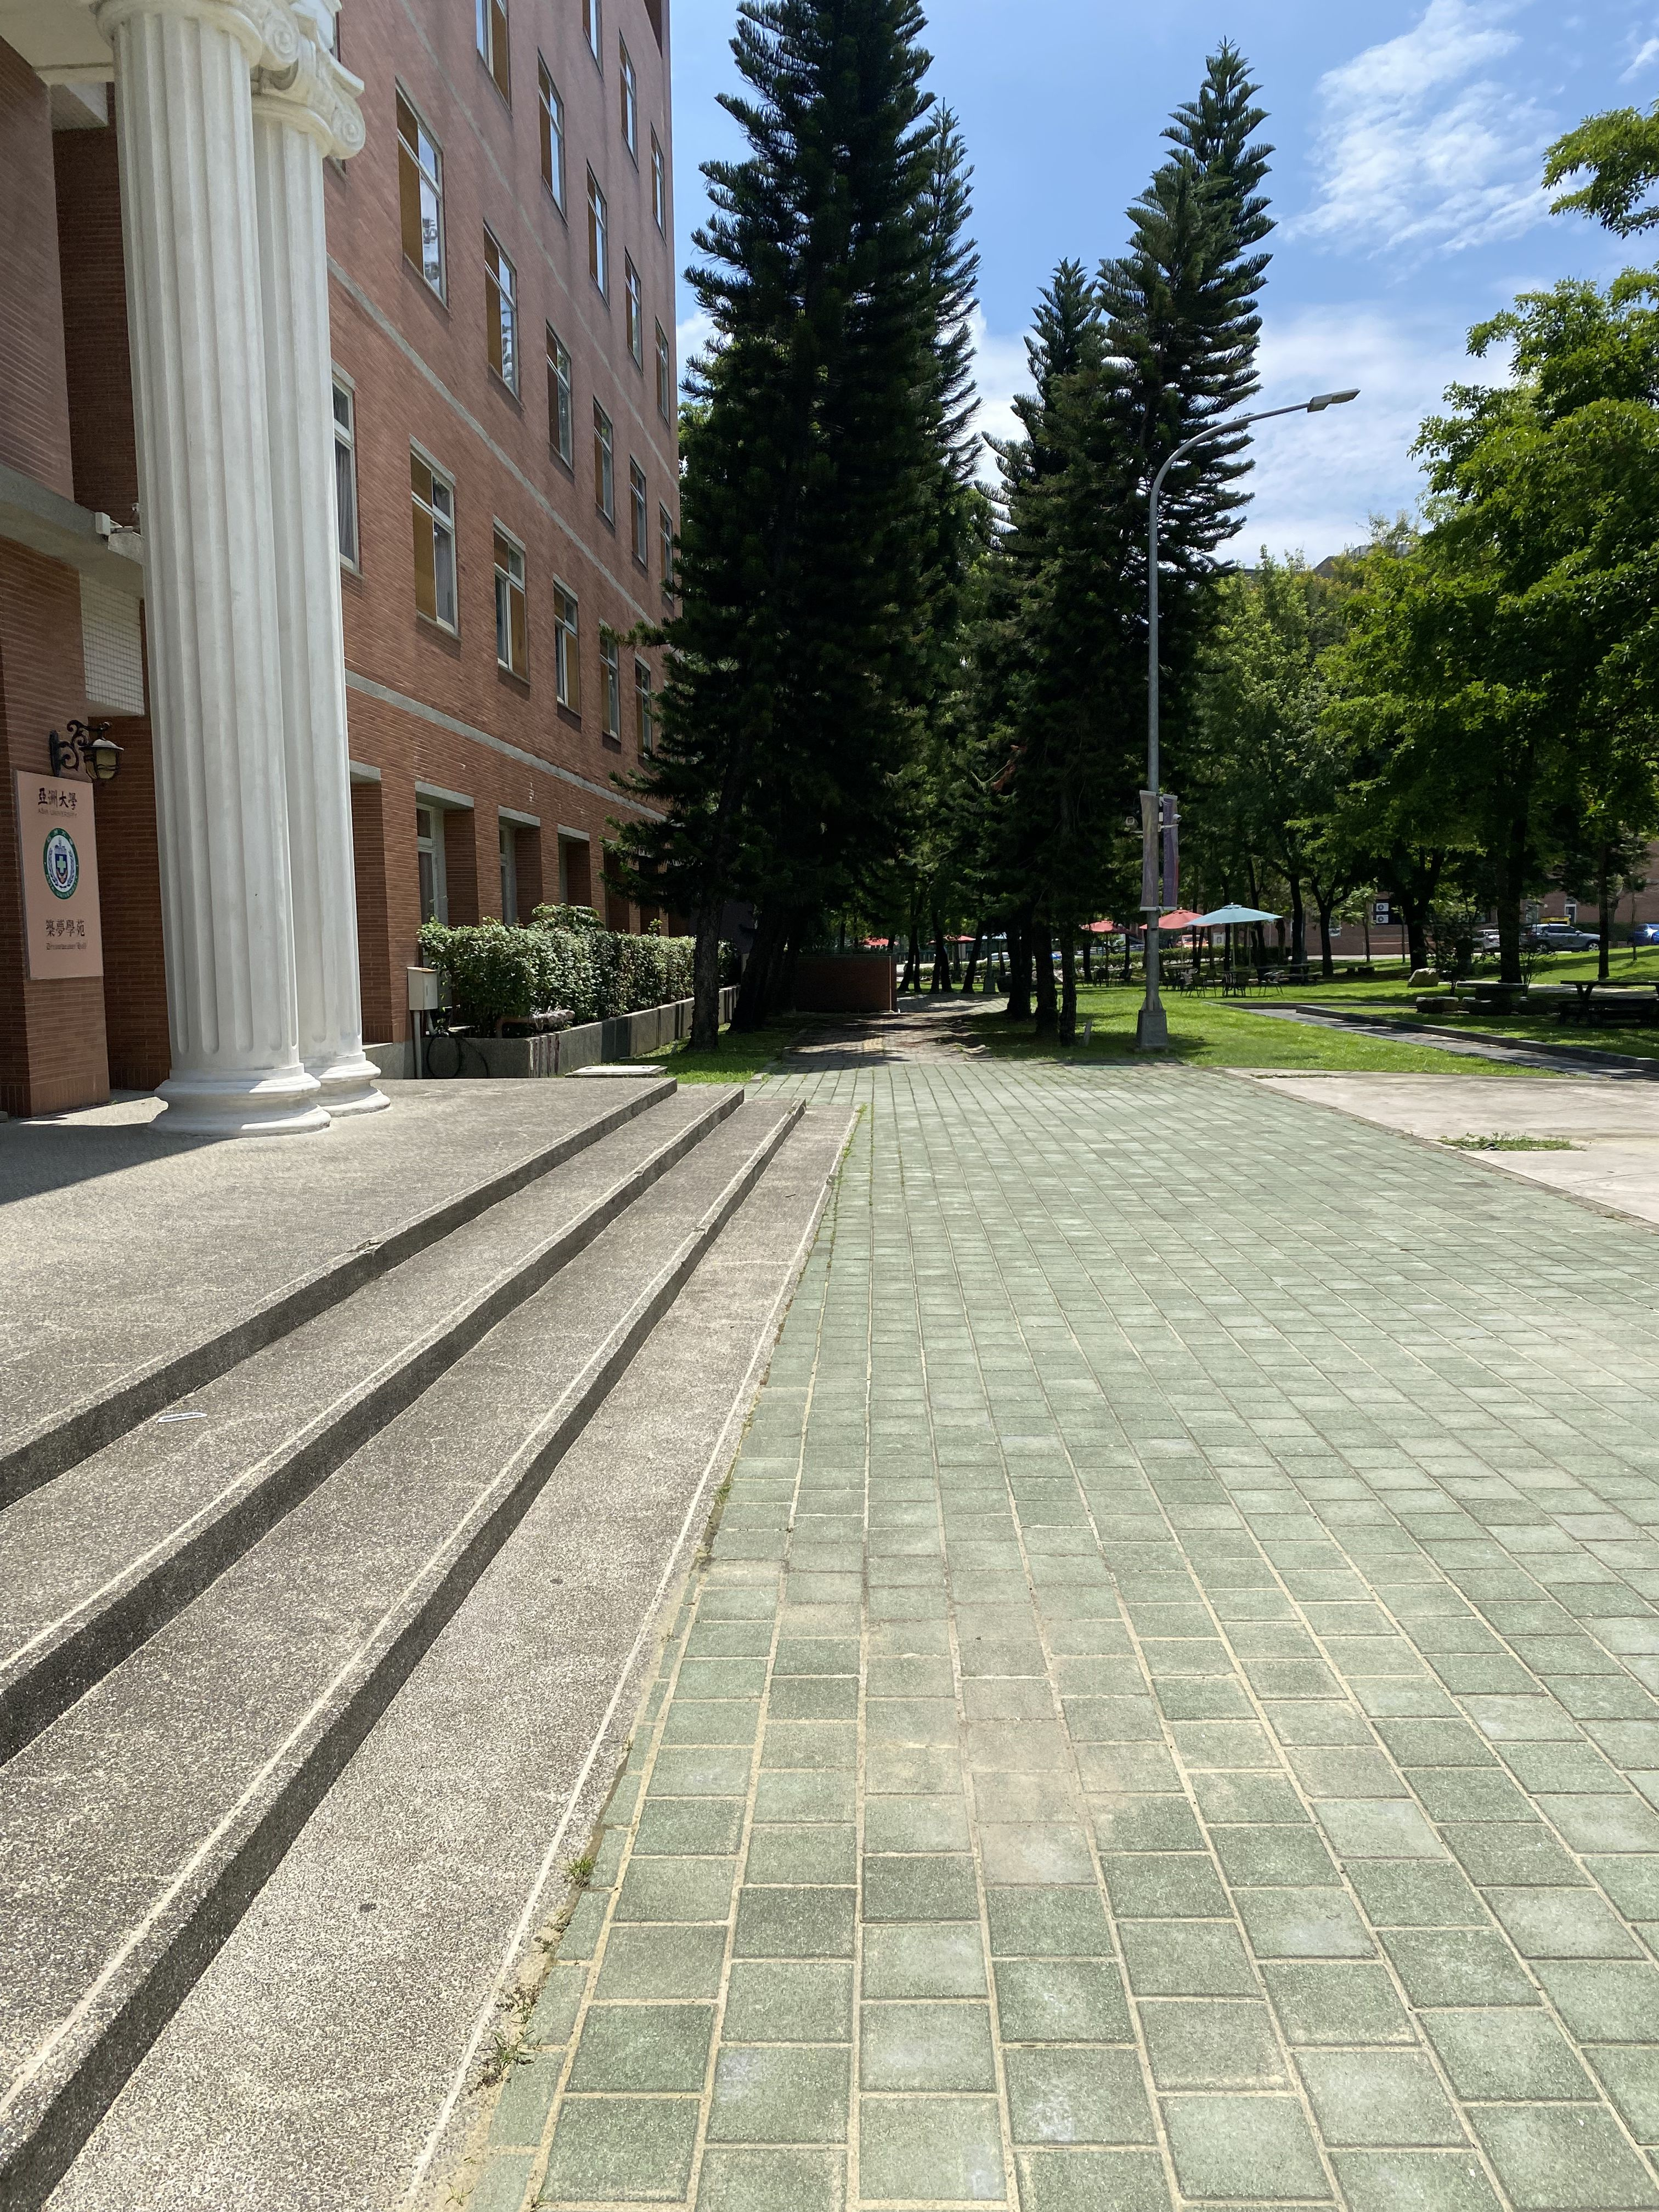sidewalk: (437, 956, 1659, 2212)
